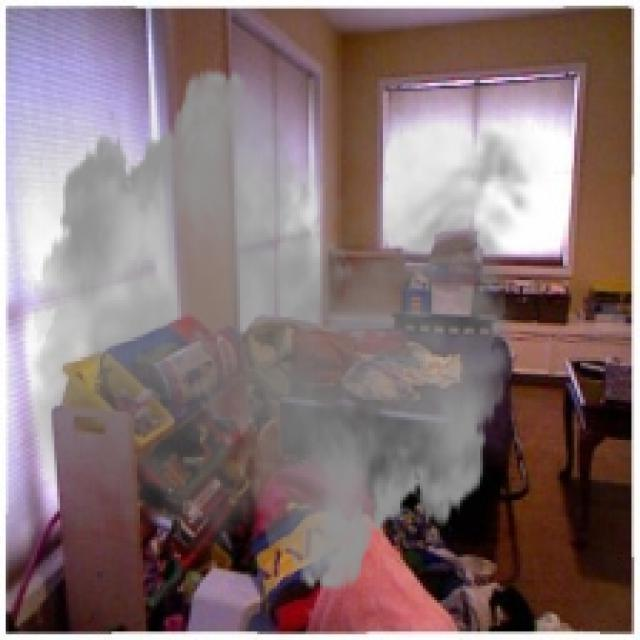Smoke: (11, 51, 548, 608)
